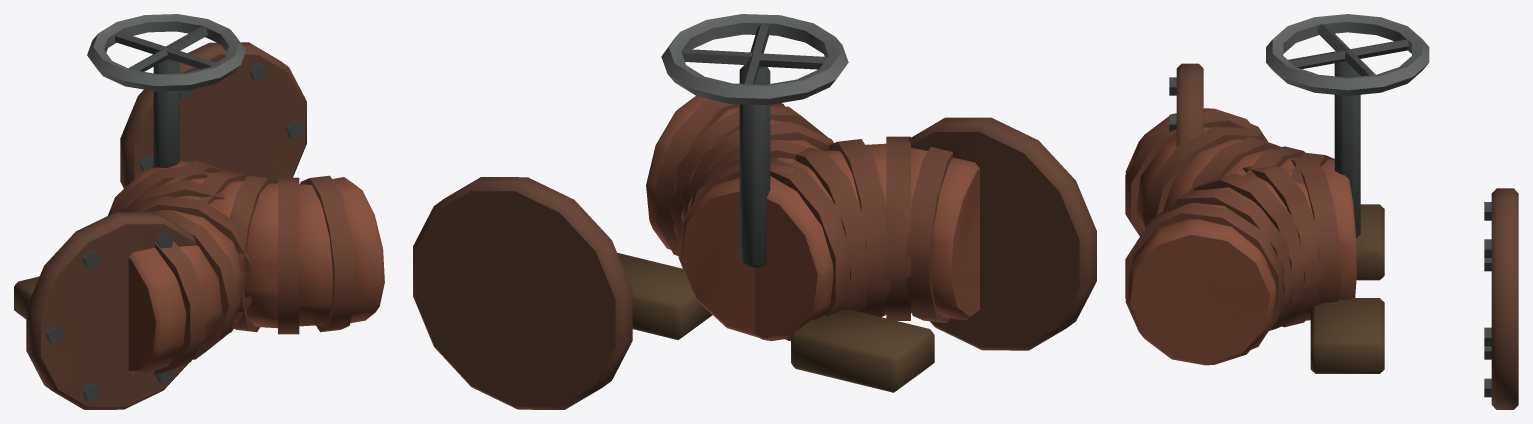
File: pump_elbow_b.glb
The picture shows the model from 3 angles, left to right: view 1: azimuth 30°, elevation 25°; view 2: azimuth 150°, elevation 25°; view 3: azimuth 270°, elevation 25°; orthographic projection. The views are drawn at different scales.
Visible parts, largest first — view 1: Surface; view 2: Surface; view 3: Surface.
Boxes of the visible parts, left/top/right/bottom form: Surface: left=14, top=14, right=384, bottom=409; Surface: left=413, top=14, right=1096, bottom=409; Surface: left=1125, top=14, right=1518, bottom=409.
Size of the model in its own units: 4.15 by 2.61 by 3.2.
